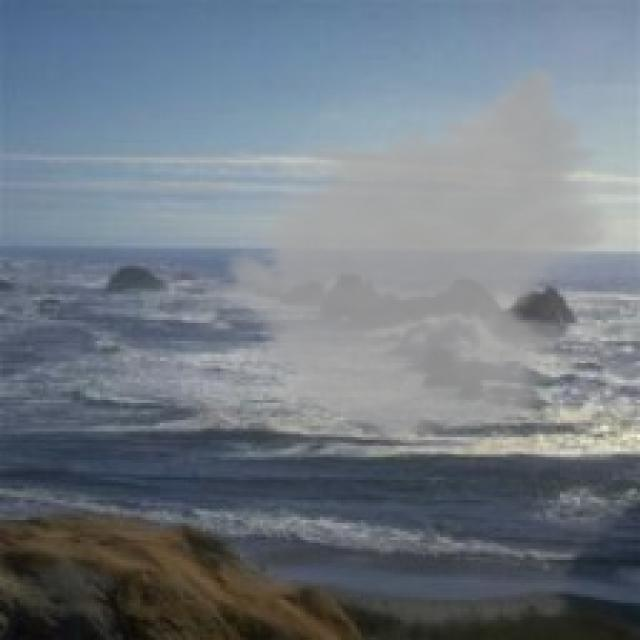Smoke: (211, 63, 626, 443)
